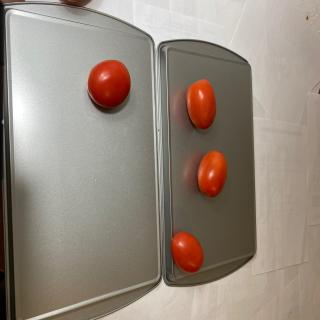Tomato: (87, 60, 131, 109), (186, 79, 216, 129), (198, 150, 228, 197), (170, 232, 203, 274)
